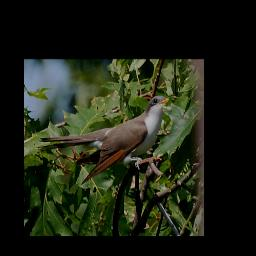Cuckoo: (36, 95, 169, 185)
